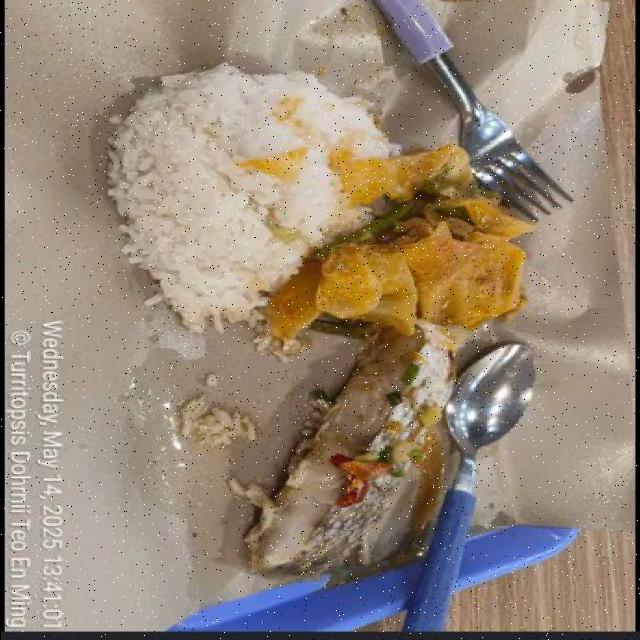Fish: (230, 325, 451, 578)
Non green veg: (265, 145, 531, 347)
Rice: (109, 63, 399, 332)
